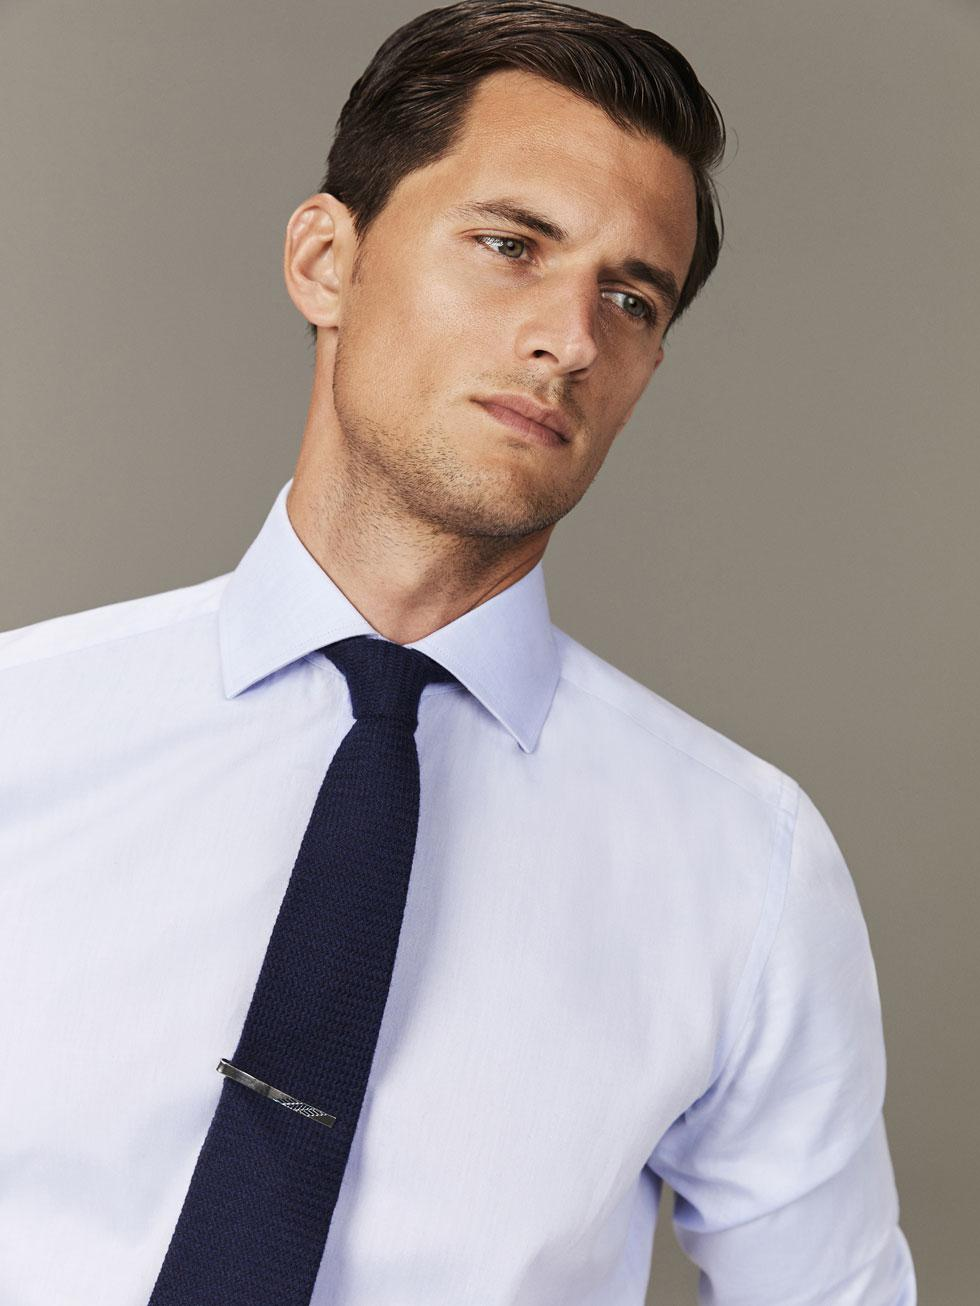teeshirt: (1, 519, 917, 1305)
